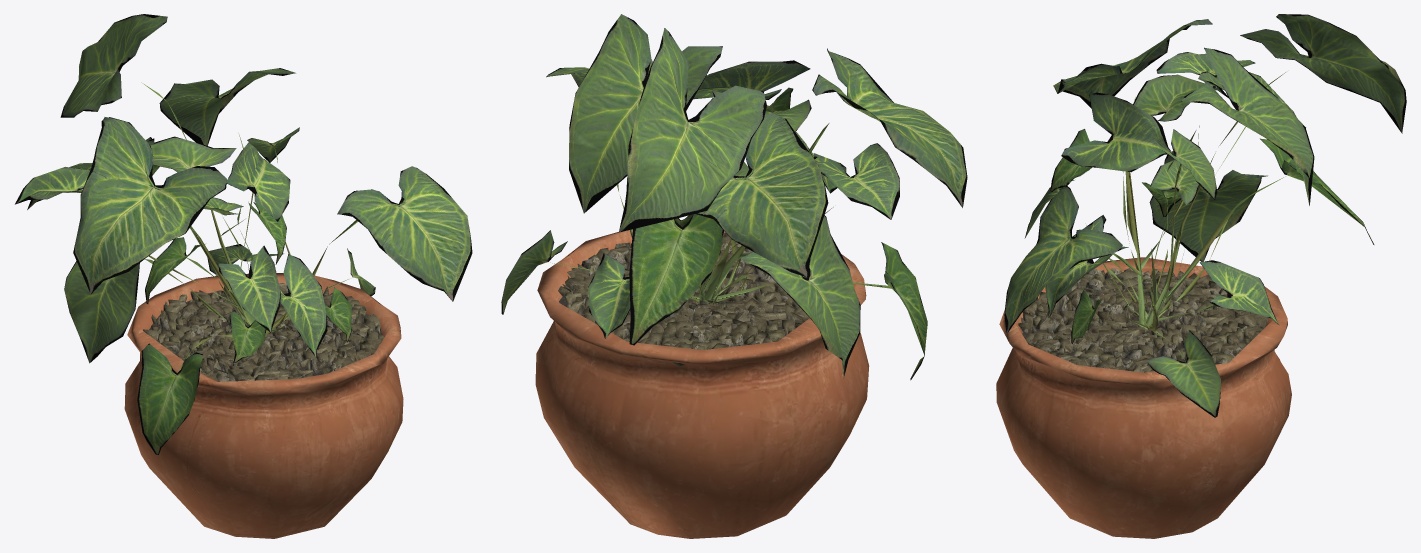
Rendered from potted_plant_02-low.glb.
The picture shows the model from 3 angles, left to right: view 1: azimuth 30°, elevation 25°; view 2: azimuth 150°, elevation 25°; view 3: azimuth 270°, elevation 25°; orthographic projection. The views are drawn at different scales.
Visible parts, largest first — view 1: potted_plant_02_leaves, potted_plant_02_pot, potted_plant_02_dirt; view 2: potted_plant_02_leaves, potted_plant_02_pot, potted_plant_02_dirt; view 3: potted_plant_02_leaves, potted_plant_02_pot, potted_plant_02_dirt.
Part boxes in pixels (left/top/right/bottom): potted_plant_02_leaves: left=15, top=14, right=472, bottom=454; potted_plant_02_pot: left=124, top=273, right=403, bottom=538; potted_plant_02_dirt: left=143, top=283, right=384, bottom=390; potted_plant_02_leaves: left=501, top=14, right=967, bottom=380; potted_plant_02_pot: left=535, top=229, right=869, bottom=538; potted_plant_02_dirt: left=558, top=232, right=809, bottom=366; potted_plant_02_leaves: left=1004, top=14, right=1406, bottom=417; potted_plant_02_pot: left=996, top=257, right=1291, bottom=538; potted_plant_02_dirt: left=1018, top=268, right=1268, bottom=372.
Bounding box in the file's own units: 0.7009 × 0.8395 × 0.6561.
2 materials, 2 textured.
